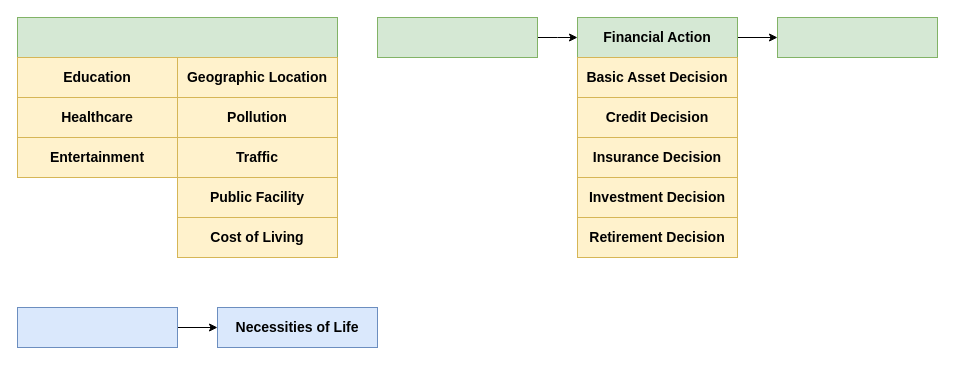
Some shapes in this 955 by 365 pixel diagram are drawn without their labels. Each missing label, with the centre of its shape:
Financial Plan: pixel 457 37
Financial Result: pixel 857 37
Quality of Life: pixel 177 37
Spending Level: pixel 97 327
